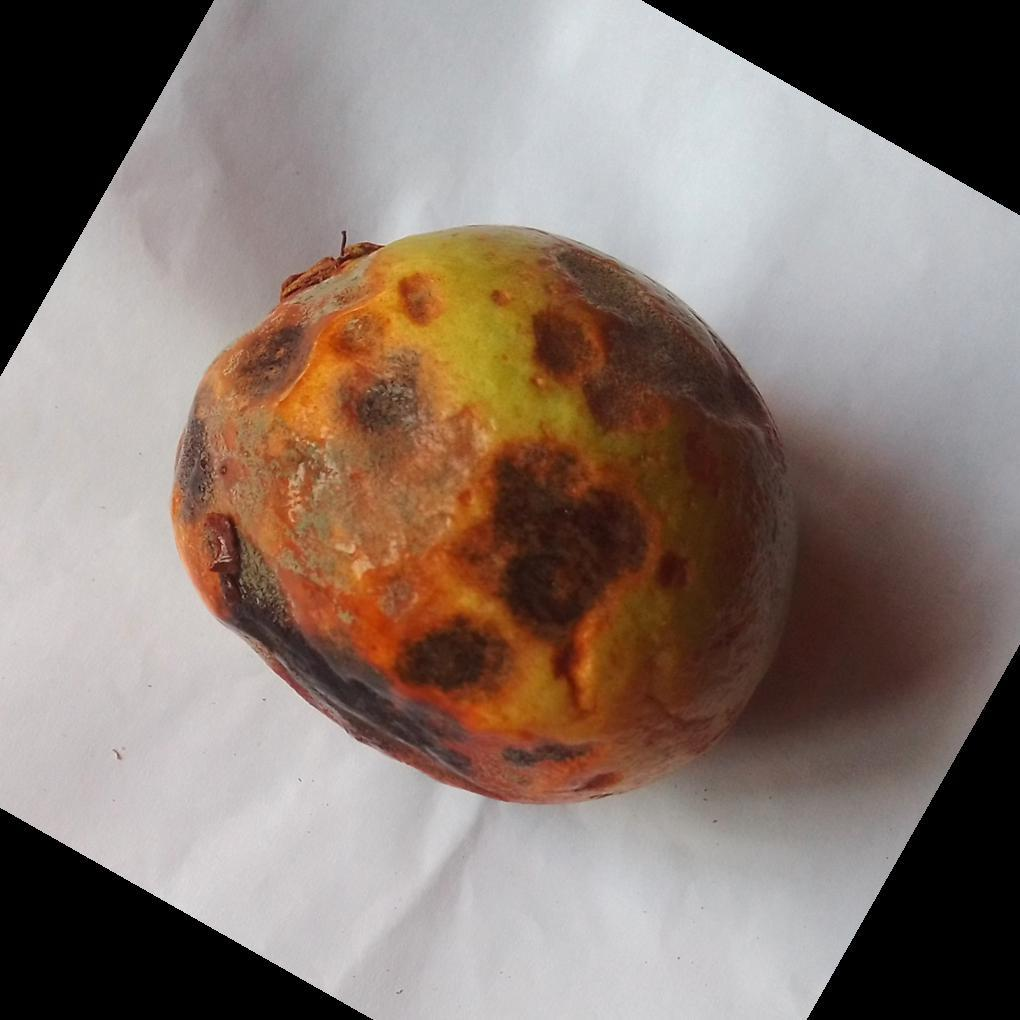FreshOrange: (168, 225, 800, 808)
